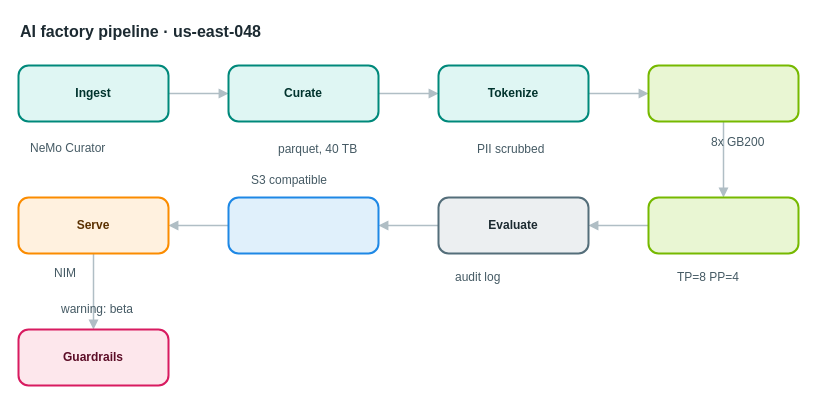
Some shapes in this 816 by 403 pixel diagram are drawn without their labels. The shapes that lost their labels are listed below. From the top down, each one's centre as x and y in pixels, then its label:
[723,93]: Pretrain
[303,225]: Model registry
[723,225]: Fine-tune
